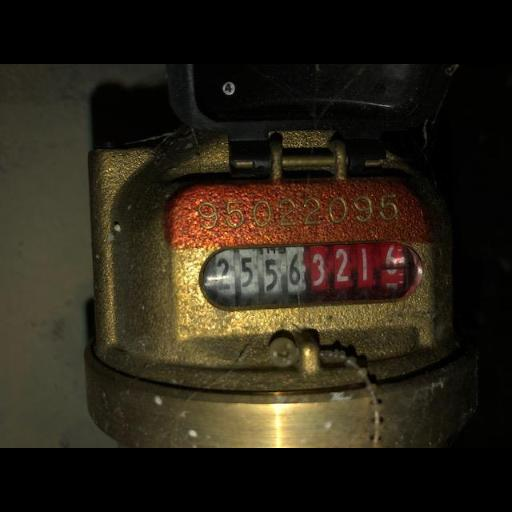1: (354, 243, 376, 301)
2: (327, 244, 355, 303), (212, 249, 236, 308)
3: (305, 245, 331, 304)
5: (261, 246, 284, 306), (238, 249, 260, 308)
6: (377, 241, 404, 300), (283, 245, 309, 305)
border_water_meter_number: (197, 237, 425, 312)
